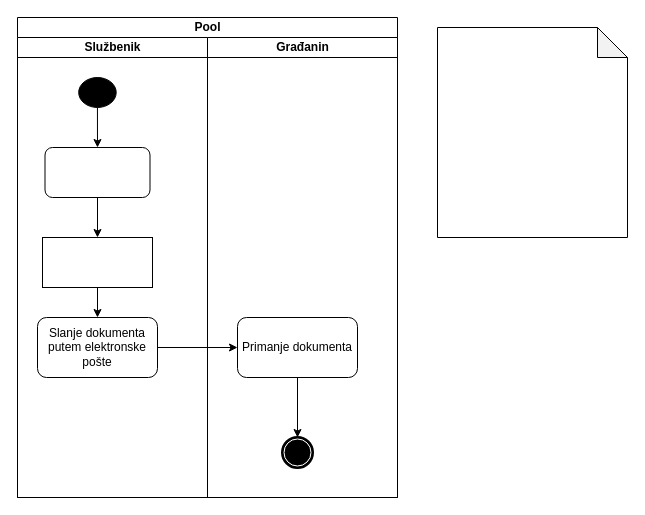
This 645x515 diagram has some shape labels left out. The centre of each missing label's shape, as x and y in pixels:
"Obaveštenje" belongs at (x=97, y=262).
"Pre popunjavanja dokumenta potrebno je da se službenik uloguje na servis" belongs at (x=532, y=132).
"Unos informacija u dokument obaveštenja" belongs at (x=97, y=172).
